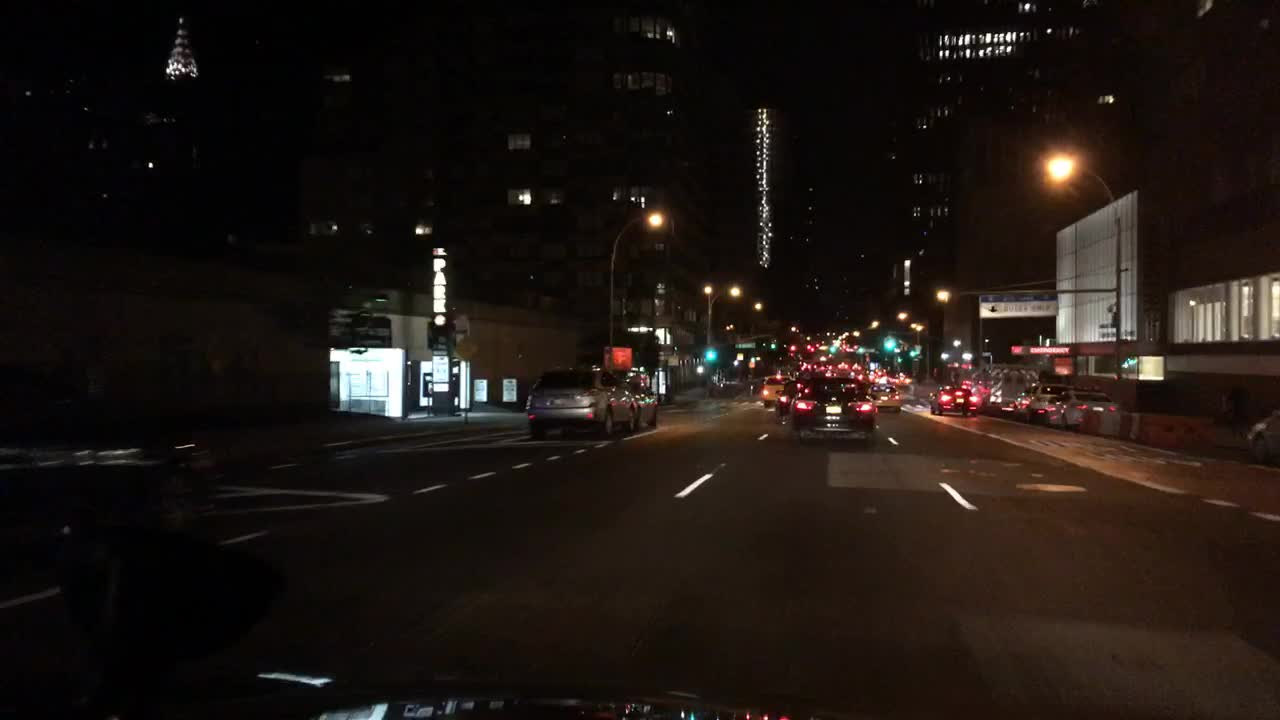car: (0, 356, 215, 633), (526, 368, 637, 440), (787, 377, 878, 446), (619, 371, 659, 431), (1059, 392, 1116, 428), (928, 384, 980, 416), (1248, 407, 1278, 461), (773, 380, 806, 422), (1020, 392, 1064, 423), (760, 377, 790, 410), (869, 381, 901, 411), (709, 372, 745, 395), (1010, 386, 1037, 416), (887, 371, 913, 392), (839, 335, 860, 351), (790, 344, 811, 359), (793, 359, 814, 374), (998, 398, 1017, 414), (746, 378, 763, 395), (814, 359, 835, 372), (806, 335, 820, 353), (865, 374, 886, 386), (847, 368, 866, 381), (776, 362, 794, 375), (835, 356, 850, 371), (820, 371, 844, 378), (871, 366, 886, 377), (850, 362, 865, 372)
traffic light: (880, 338, 898, 350), (703, 347, 716, 362), (890, 356, 905, 365), (695, 365, 706, 377), (826, 347, 838, 356), (766, 341, 778, 350), (907, 348, 919, 356)
traffic sign: (977, 293, 1058, 316), (432, 356, 450, 393), (603, 348, 631, 369), (457, 333, 477, 362), (459, 359, 471, 407), (501, 378, 517, 401), (472, 381, 487, 401), (453, 314, 468, 330), (655, 345, 676, 356), (733, 341, 755, 351), (667, 356, 679, 366)
